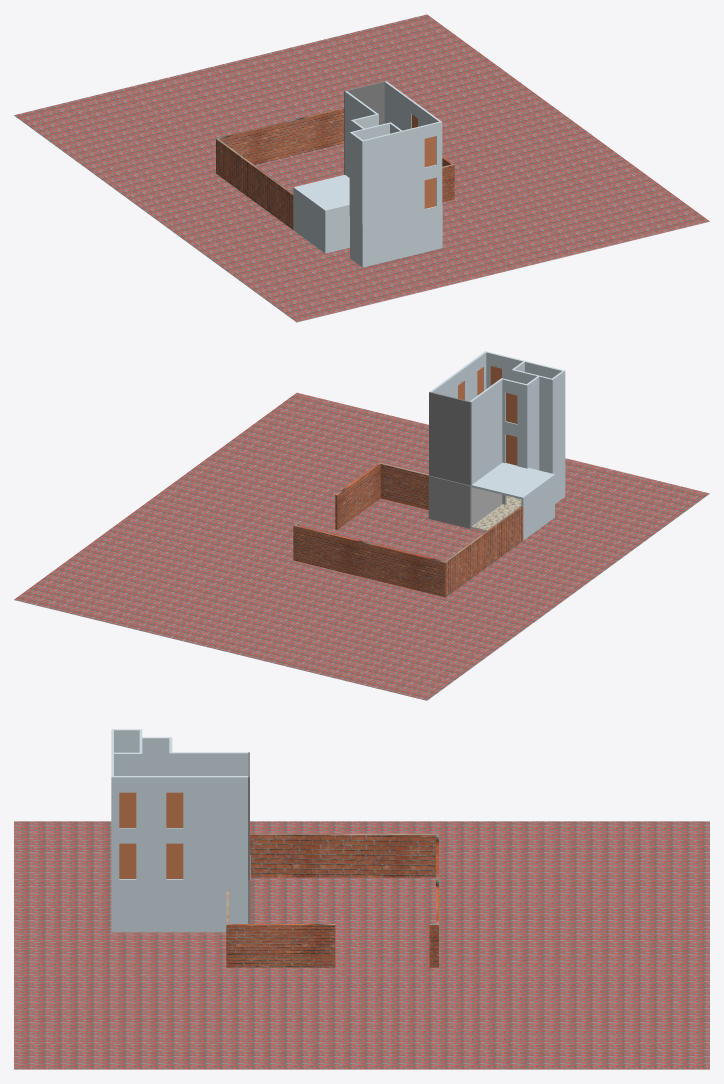
The model's file is wingAv7.dae.
3 renders of one model, top to bottom at view 1: azimuth 30°, elevation 25°; view 2: azimuth 150°, elevation 25°; view 3: azimuth 270°, elevation 25°, orthographic. The views are drawn at different scales.
Parts seen in each view (by area): view 1: mesh192, mesh186, mesh368, mesh183, mesh253.000, mesh253, mesh363, mesh343, mesh364, mesh14.000, mesh282, mesh252.000 (+3 smaller); view 2: mesh192, mesh191, mesh183, mesh29, mesh281.000, mesh281, mesh318, mesh317, mesh343, mesh363, mesh98.000, mesh98 (+7 smaller); view 3: mesh192, mesh185, mesh369, mesh323, mesh16.000, mesh16, mesh94, mesh332.000, mesh332, mesh246, mesh208, mesh188 (+6 smaller).
Boxes of the visible parts, box(x1,y1,x2,y2) form: mesh192: box(14, 14, 709, 321); mesh186: box(219, 108, 344, 164); mesh368: box(362, 205, 442, 267); mesh183: box(216, 139, 293, 229); mesh253.000: box(362, 168, 424, 224); mesh253: box(362, 126, 424, 182); mesh363: box(293, 187, 325, 252); mesh343: box(295, 175, 349, 209); mesh364: box(325, 205, 349, 253); mesh14.000: box(384, 82, 410, 130); mesh282: box(347, 82, 384, 124); mesh252.000: box(349, 174, 362, 224); mesh192: box(14, 392, 709, 700); mesh191: box(293, 525, 445, 597); mesh183: box(445, 506, 523, 596); mesh29: box(428, 476, 470, 528); mesh281.000: box(429, 434, 470, 485); mesh281: box(429, 392, 470, 443); mesh318: box(380, 464, 428, 509); mesh317: box(337, 464, 380, 529); mesh343: box(472, 462, 551, 496); mesh363: box(523, 474, 554, 540); mesh98.000: box(471, 421, 502, 484); mesh98: box(471, 380, 502, 442); mesh192: box(14, 821, 709, 1069); mesh185: box(250, 835, 435, 877); mesh369: box(111, 879, 247, 932); mesh323: box(226, 925, 335, 967); mesh16.000: box(183, 777, 247, 828); mesh16: box(183, 828, 247, 879); mesh94: box(169, 753, 247, 775); mesh332.000: box(136, 828, 166, 879); mesh332: box(136, 777, 166, 828); mesh246: box(142, 738, 169, 775); mesh208: box(14, 1069, 709, 1069); mesh188: box(250, 833, 438, 924).
Size of the model in its own units: 31.2 by 37 by 9.13.
